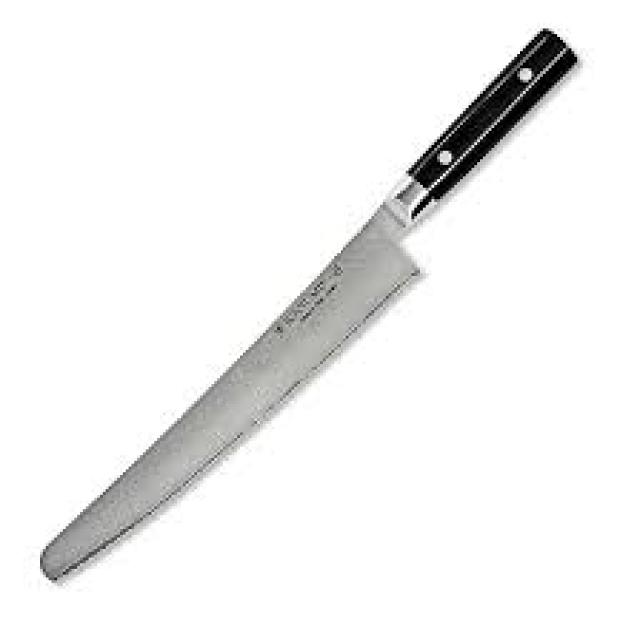Knife: (37, 28, 577, 583)
